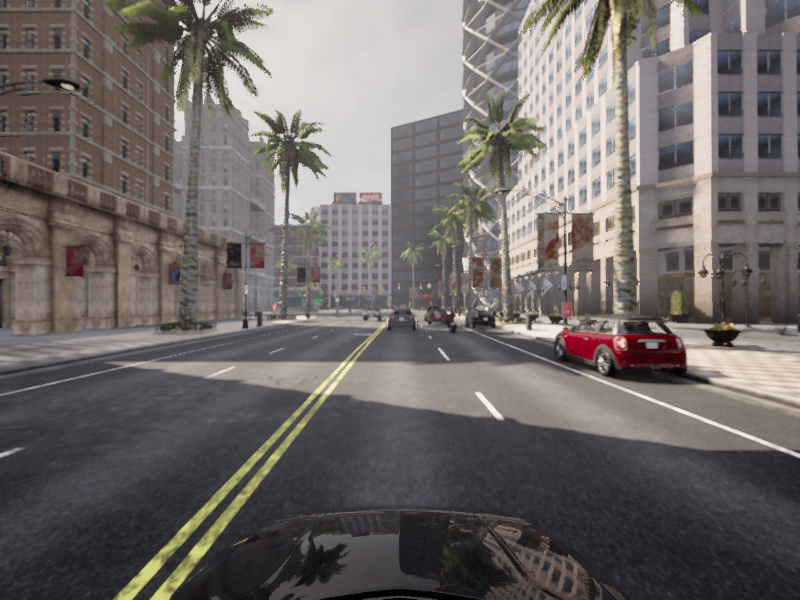vehicle: (387, 307, 416, 330), (425, 307, 450, 325), (444, 309, 459, 334), (390, 306, 412, 322), (423, 305, 442, 322), (362, 305, 382, 321)
